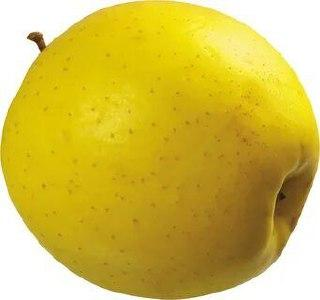Apple: (1, 0, 320, 300)
